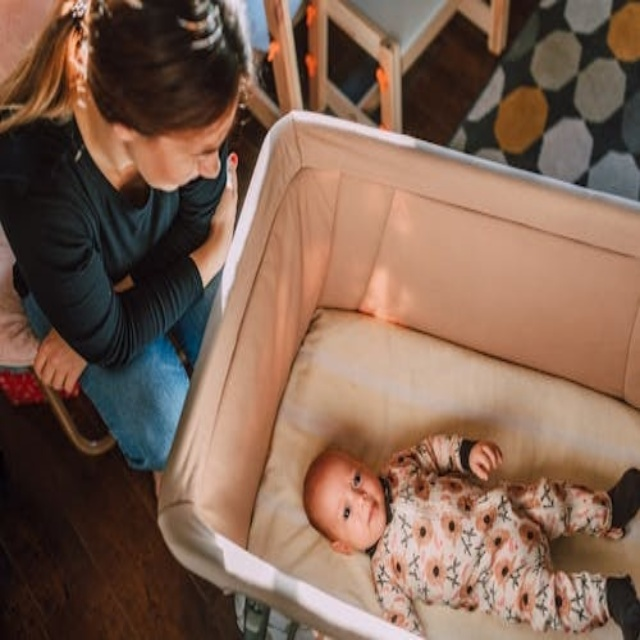Sin_gafas: (337, 450, 367, 530)
Sin_guantes: (195, 152, 239, 279), (33, 326, 90, 396), (462, 439, 503, 481)
Sin_mascara: (364, 482, 385, 536)
